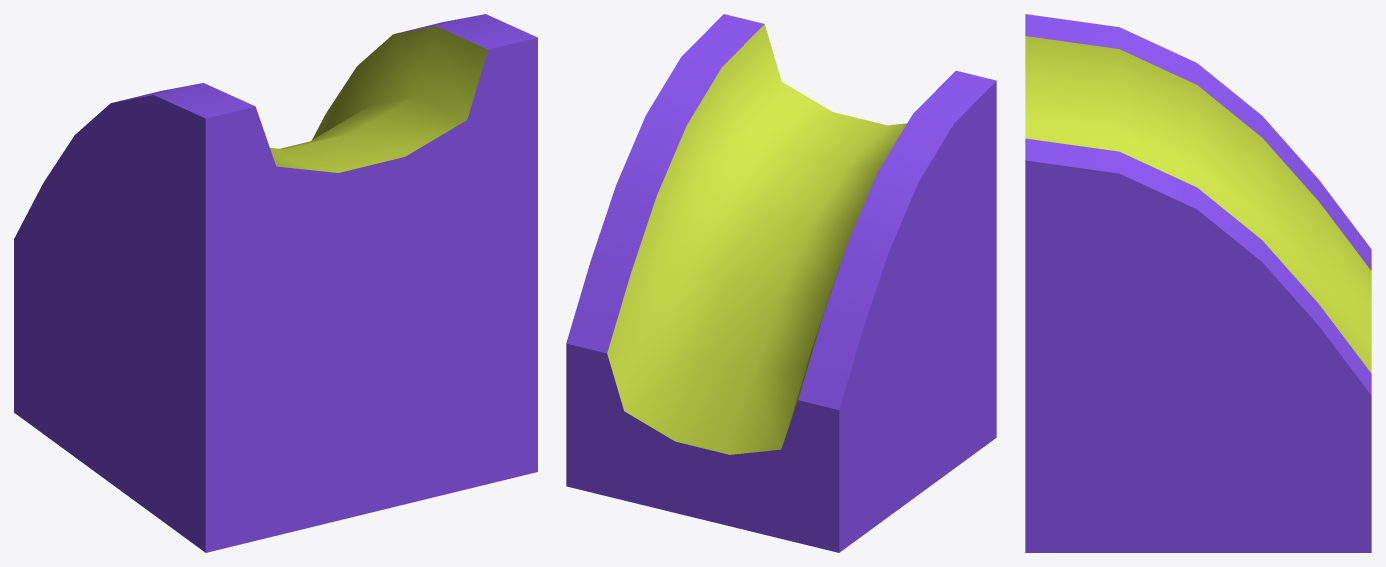
The model's file is rampEnd_solid_D.fbx.
3 renders of one model, left to right at view 1: azimuth 30°, elevation 25°; view 2: azimuth 150°, elevation 25°; view 3: azimuth 270°, elevation 25°, orthographic. The views are drawn at different scales.
Visible parts, largest first — view 1: rampEnd_solid_D; view 2: rampEnd_solid_D; view 3: rampEnd_solid_D.
Boxes of the visible parts, x1,y1,x2,y2 form: rampEnd_solid_D: (14,14,537,552); rampEnd_solid_D: (566,14,996,552); rampEnd_solid_D: (1025,14,1371,552).
Bounding box in the file's own units: 10 × 12.5 × 10.
